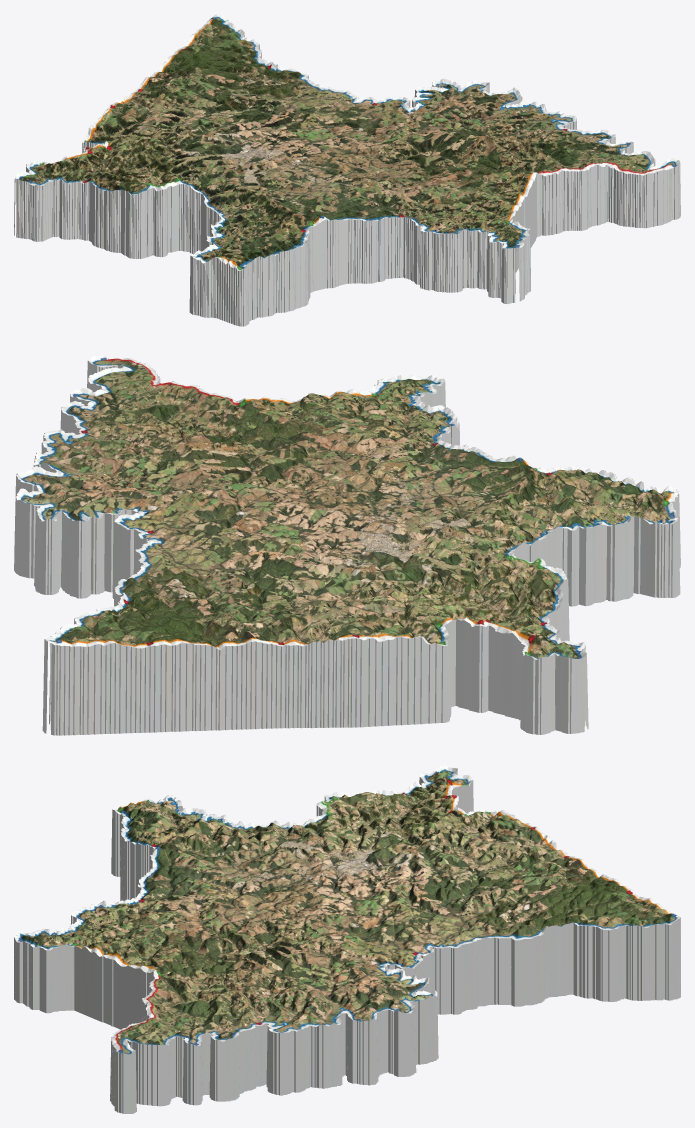
3 views of the same model, one above another, from view 1: azimuth 30°, elevation 25°; view 2: azimuth 150°, elevation 25°; view 3: azimuth 270°, elevation 25° (orthographic). The views are drawn at different scales.
Size of the model in its own units: 1 by 0.1344 by 0.9904.
1 material, 1 textured.
